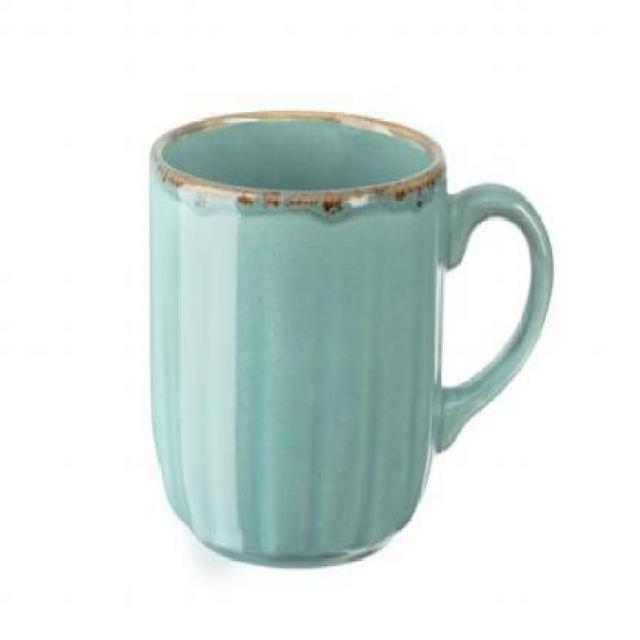taza: (146, 110, 554, 570)
